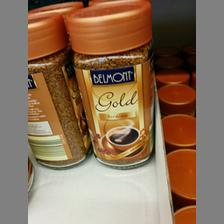Kaffee: (64, 1, 154, 169), (28, 11, 88, 167)
